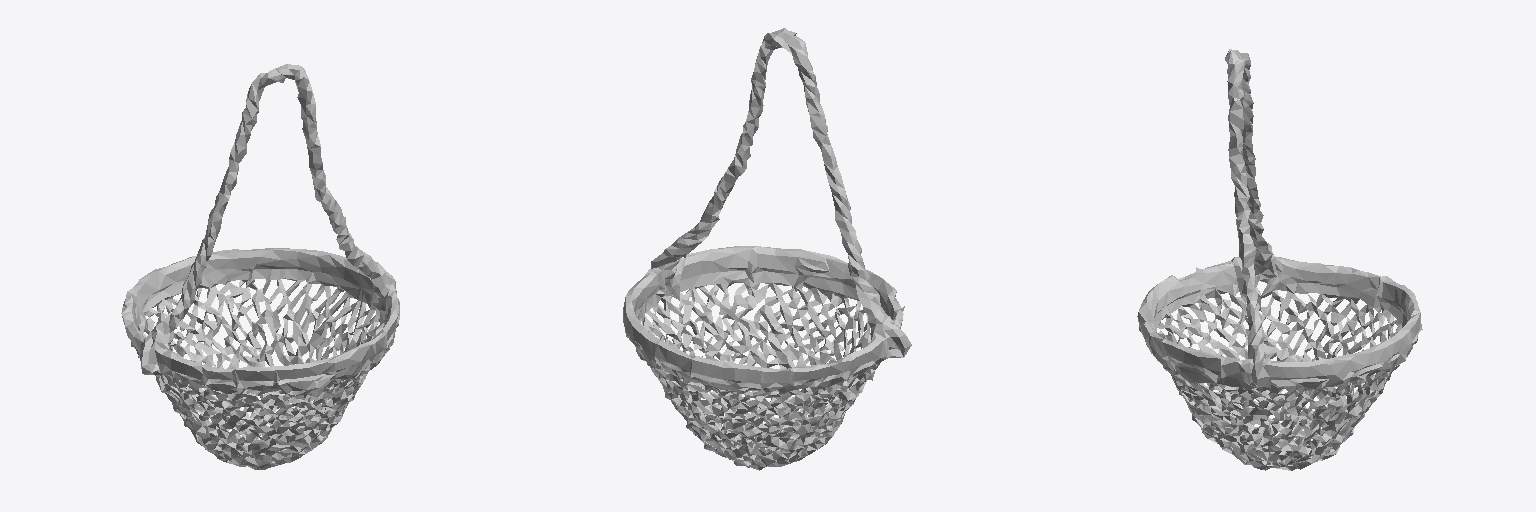
Rendered from Anachronists_Treasure_REPLACEMENT.obj.
3 views of the same model, side by side, from view 1: azimuth 30°, elevation 25°; view 2: azimuth 150°, elevation 25°; view 3: azimuth 270°, elevation 25° (orthographic).
Parts seen in each view (by area): view 1: Anachronists_Treasure; view 2: Anachronists_Treasure; view 3: Anachronists_Treasure.
Part boxes in pixels (bbox=[...]): Anachronists_Treasure: bbox=[121, 64, 399, 469]; Anachronists_Treasure: bbox=[623, 28, 911, 470]; Anachronists_Treasure: bbox=[1137, 49, 1422, 470].
Bounding box in the file's own units: 0.3149 × 0.4864 × 0.3011.